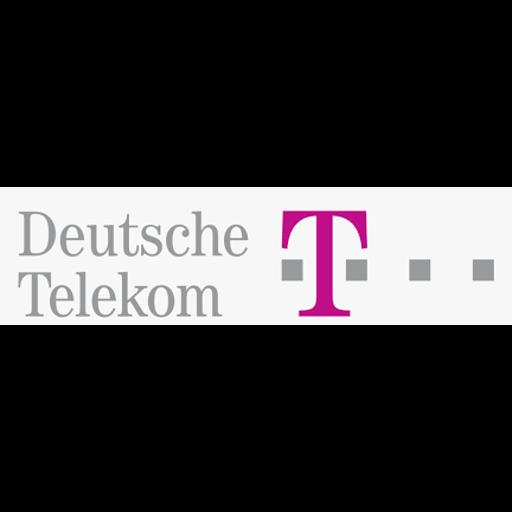Deutsche Telekom: (0, 187, 512, 325)
